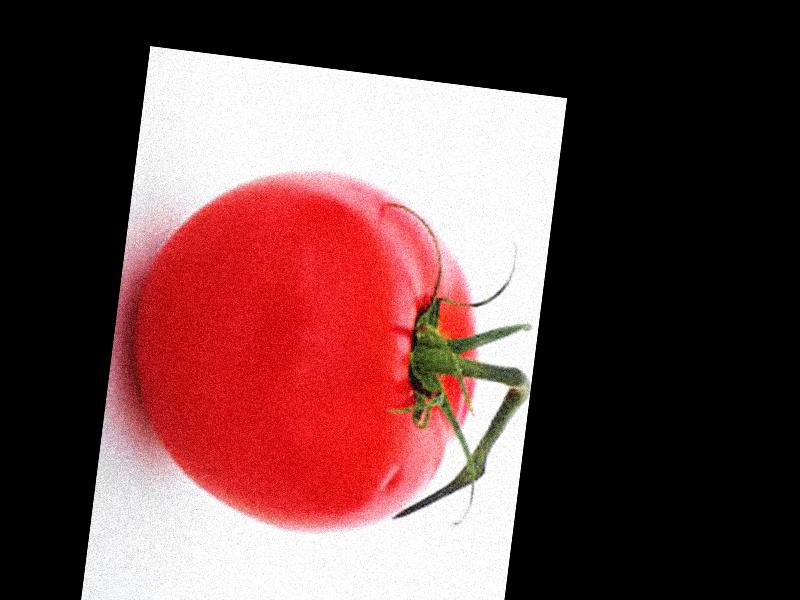Tomato: (110, 146, 497, 547)
